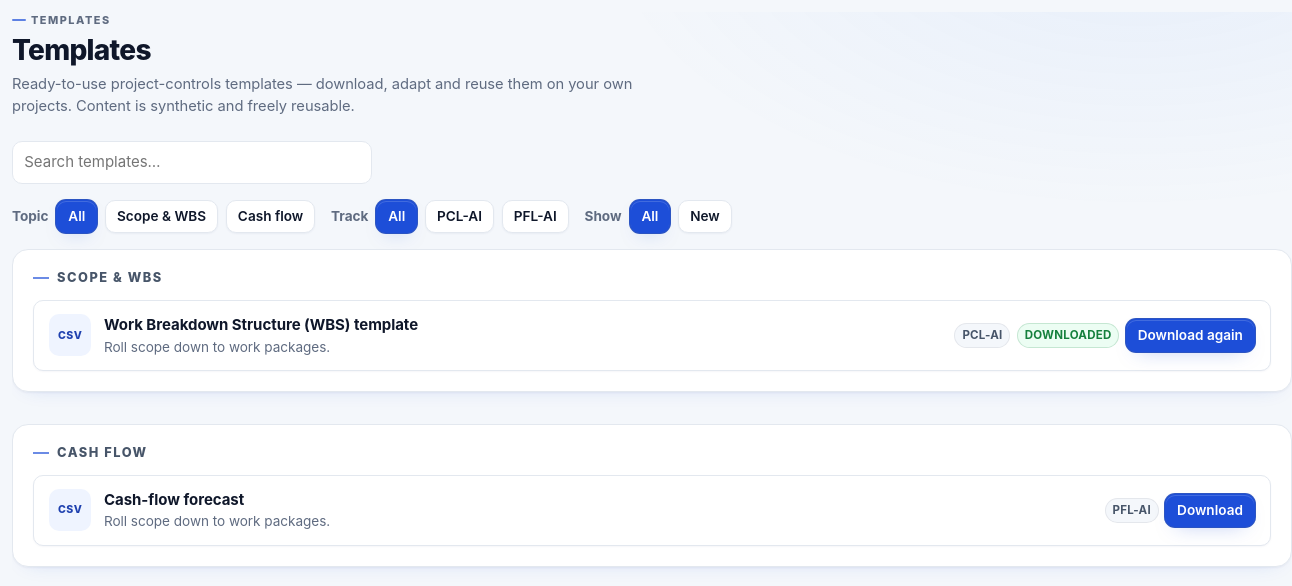
it: Templates (student portal) › badges a template the student already downloaded and offers a New-only filter
Expected: the text "Downloaded" is shown, [1017,323,1119,348]
Expected: the button "Download again" is shown, [1126,319,1255,352]
Click the button "New": (705, 216) [678,200,732,233]
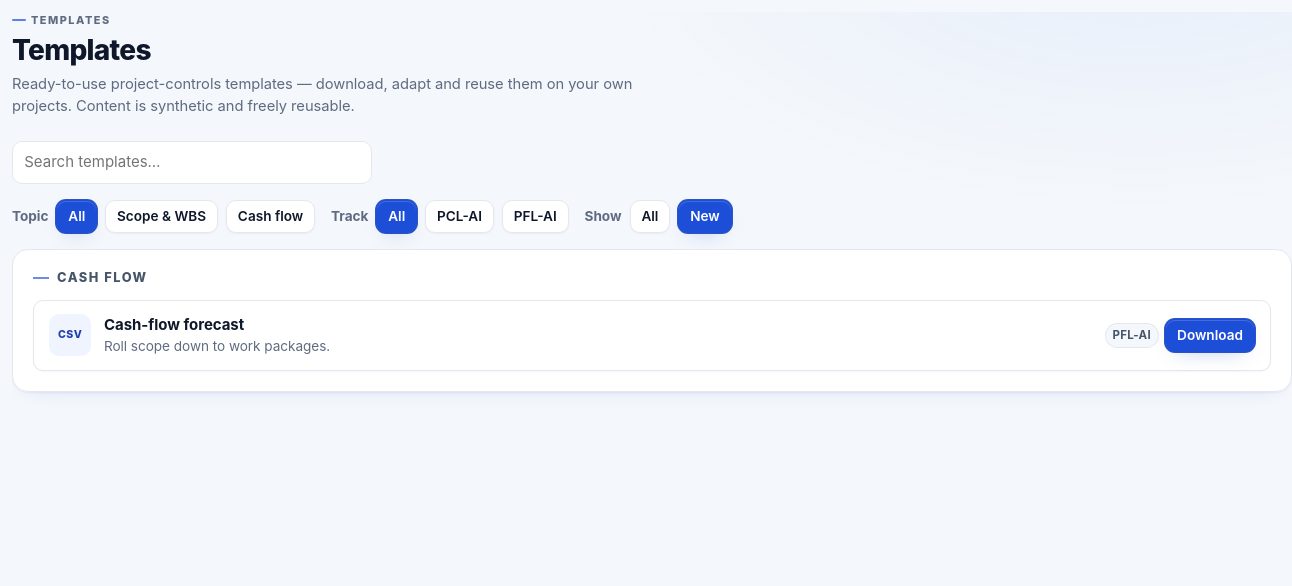
Expected: the text "Cash-flow forecast" is shown, [104,315,244,334]
Expected: the text "Work Breakdown Structure (WBS) template" is gone
